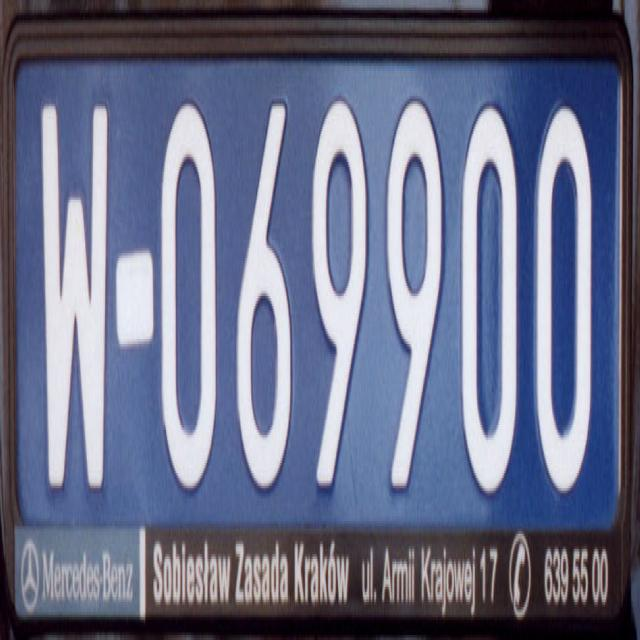pl_license_plate: (15, 58, 620, 521)
